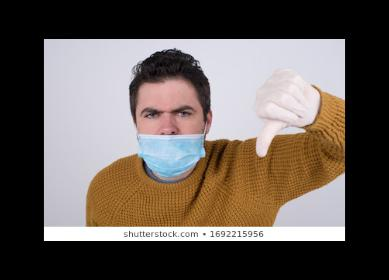mask_weared_incorrect: (137, 98, 203, 178)
